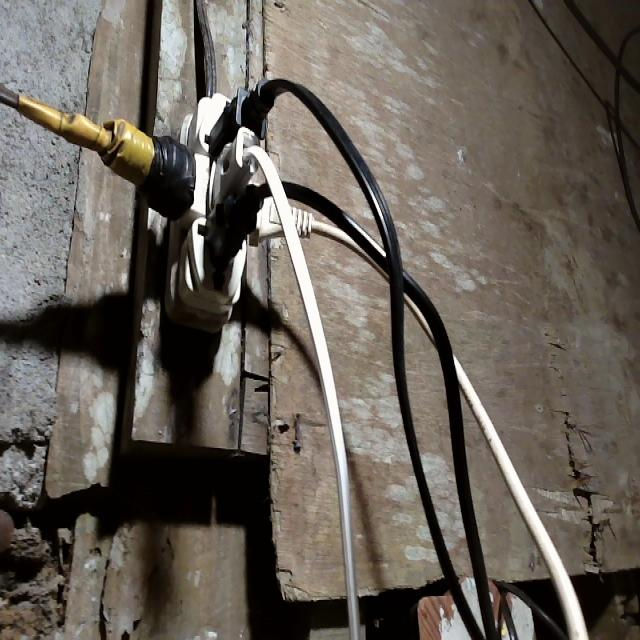-: (106, 88, 308, 320)
